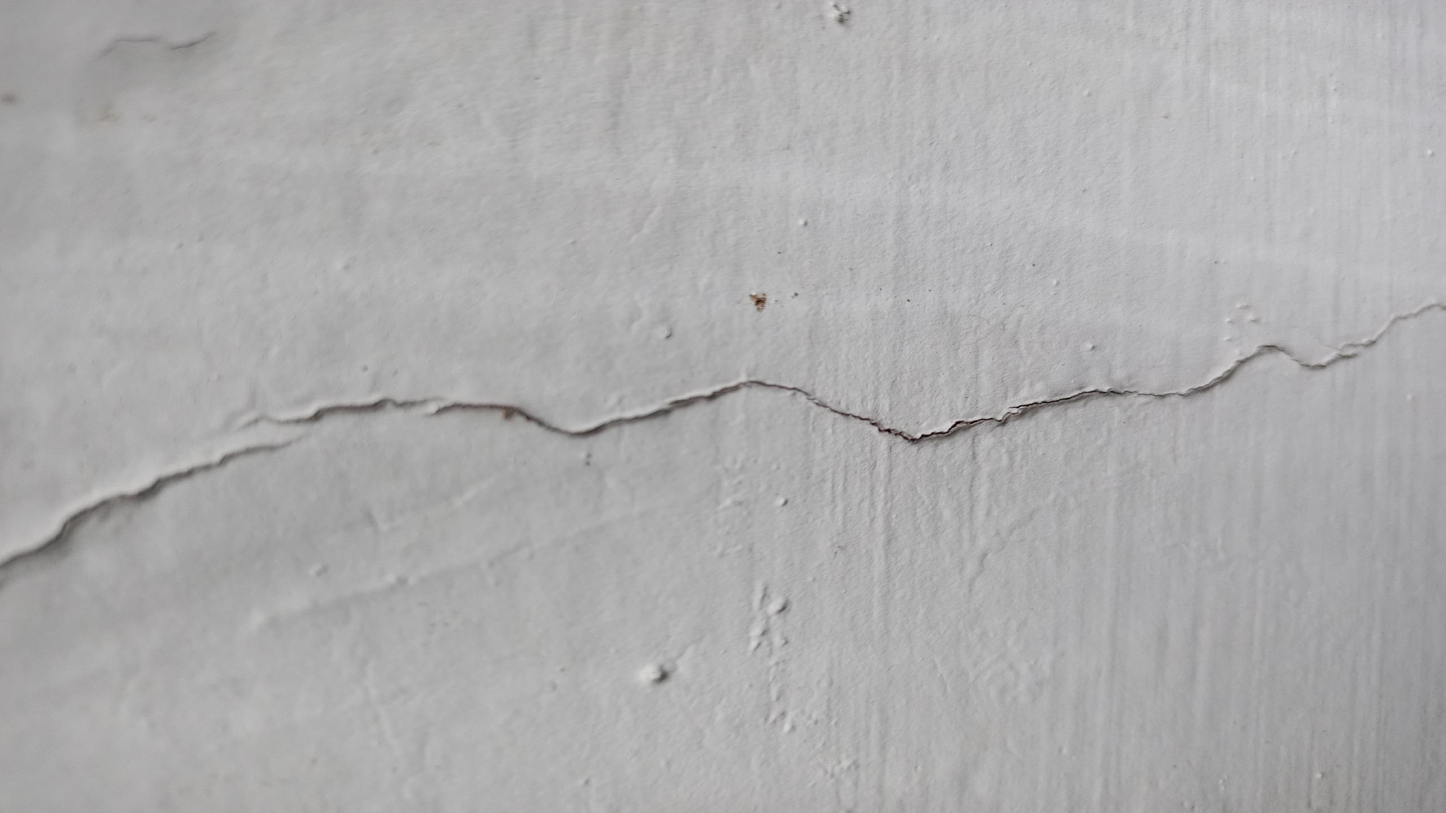crack: (435, 299, 1444, 445), (2, 437, 298, 572), (243, 395, 441, 431)
